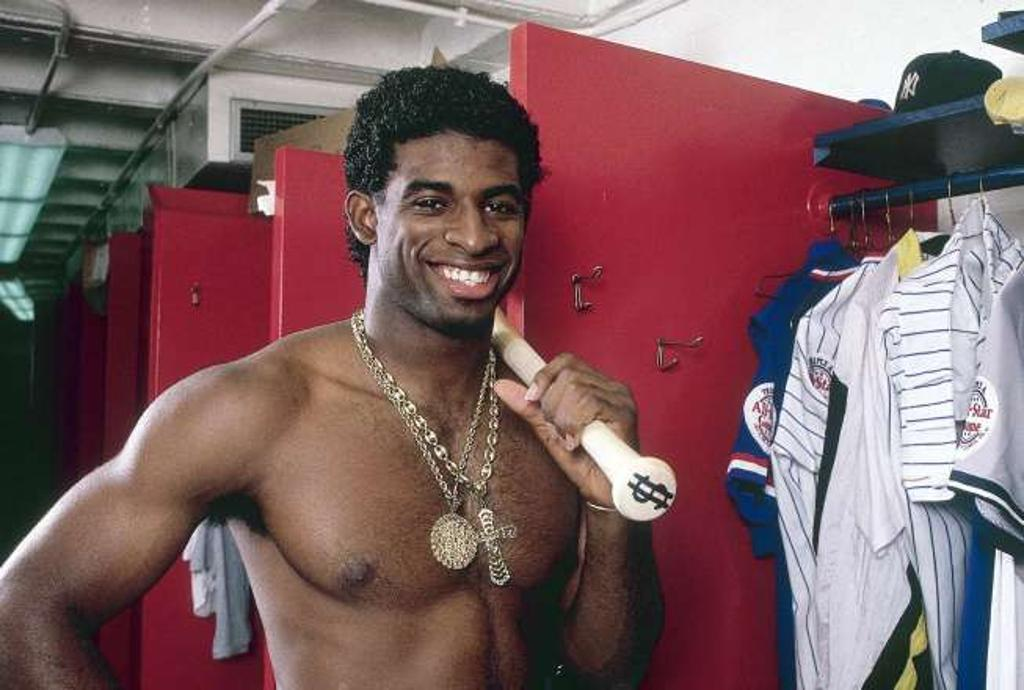face: (379, 129, 525, 319)
